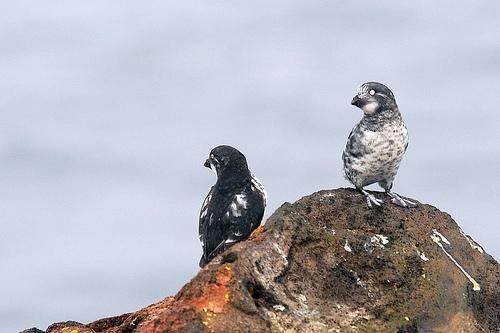bird: (338, 80, 419, 206), (199, 141, 267, 274)
